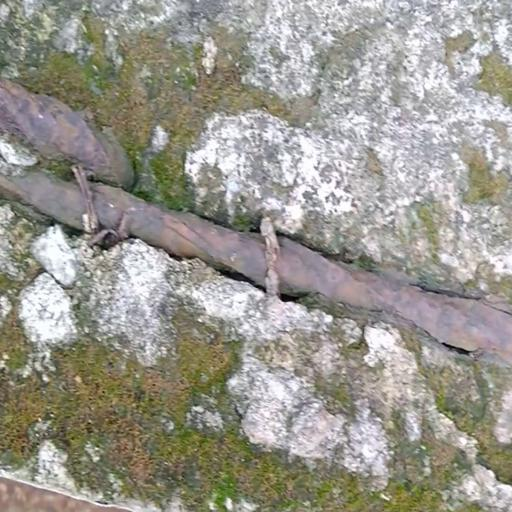spalling: (0, 65, 512, 371)
